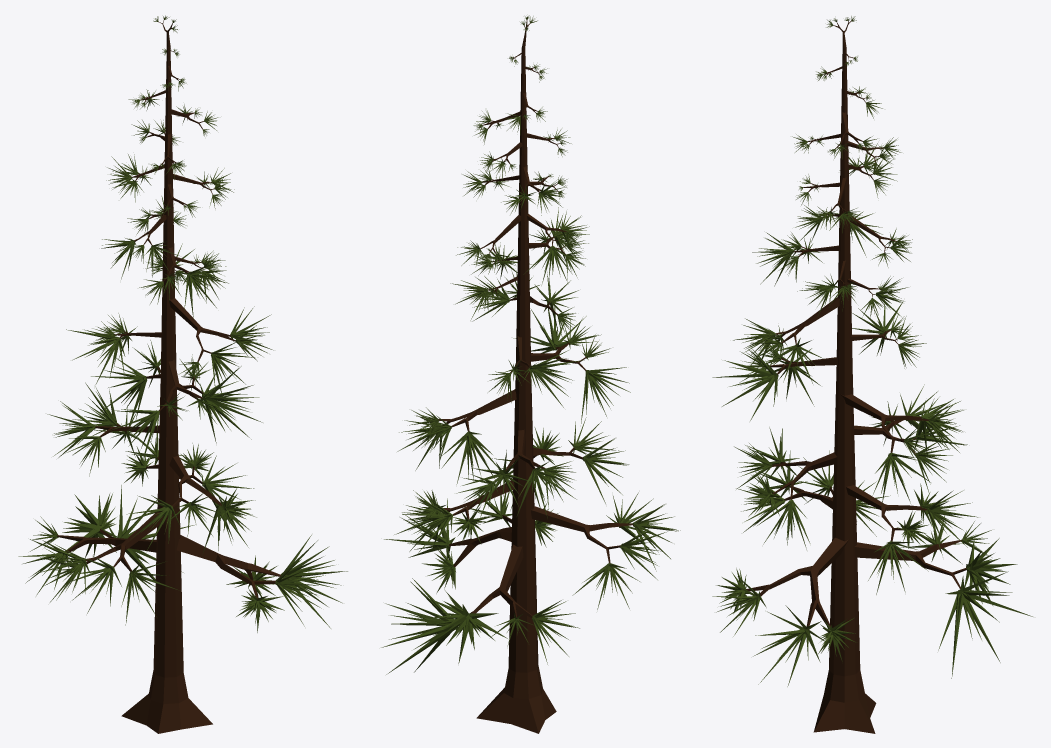
The model's file is PineTree.fbx.
3 renders of one model, left to right at view 1: azimuth 30°, elevation 25°; view 2: azimuth 150°, elevation 25°; view 3: azimuth 270°, elevation 25°, orthographic.
Parts seen in each view (by area): view 1: Cube, Cube.001, Cube.026, Cube.032, Cube.051, Cube.031, Cube.050, Cube.024, Cube.027, Cube.002, Cube.060, Cube.035 (+13 smaller); view 2: Cube, Cube.031, Cube.032, Cube.002, Cube.024, Cube.054, Cube.050, Cube.026, Cube.029, Cube.043, Cube.037, Cube.045 (+12 smaller); view 3: Cube, Cube.031, Cube.001, Cube.024, Cube.026, Cube.032, Cube.051, Cube.009, Cube.043, Cube.004, Cube.041, Cube.027 (+10 smaller).
Part boxes in pixels (box(x1,y1,x2,y2)): Cube: box(121, 20, 212, 733); Cube.001: box(176, 535, 280, 598); Cube.026: box(281, 535, 347, 628); Cube.032: box(62, 493, 117, 557); Cube.051: box(204, 366, 262, 439); Cube.031: box(106, 485, 195, 580); Cube.050: box(91, 358, 147, 433); Cube.024: box(57, 528, 156, 552); Cube.027: box(275, 555, 325, 626); Cube.002: box(85, 512, 163, 571); Cube.060: box(66, 329, 125, 384); Cube.035: box(68, 556, 121, 613); Cube: box(476, 20, 556, 733); Cube.031: box(381, 578, 457, 674); Cube.032: box(430, 590, 507, 663); Cube.002: box(531, 506, 632, 562); Cube.024: box(470, 544, 532, 617); Cube.054: box(581, 367, 630, 423); Cube.050: box(441, 431, 503, 484); Cube.026: box(384, 494, 455, 558); Cube.029: box(531, 600, 579, 664); Cube.043: box(402, 496, 453, 555); Cube.037: box(582, 438, 629, 503); Cube.045: box(516, 461, 576, 518); Cube: box(813, 21, 876, 733); Cube.031: box(938, 571, 1032, 678); Cube.001: box(746, 537, 848, 626); Cube.024: box(854, 539, 966, 588); Cube.026: box(753, 605, 828, 686); Cube.032: box(964, 538, 1017, 605); Cube.051: box(712, 350, 778, 420); Cube.009: box(840, 394, 928, 452); Cube.043: box(927, 490, 978, 555); Cube.004: box(846, 485, 927, 541); Cube.041: box(868, 541, 928, 594); Cube.027: box(712, 576, 766, 636).
Bounding box in the file's own units: 13.16 × 30.35 × 12.77.
